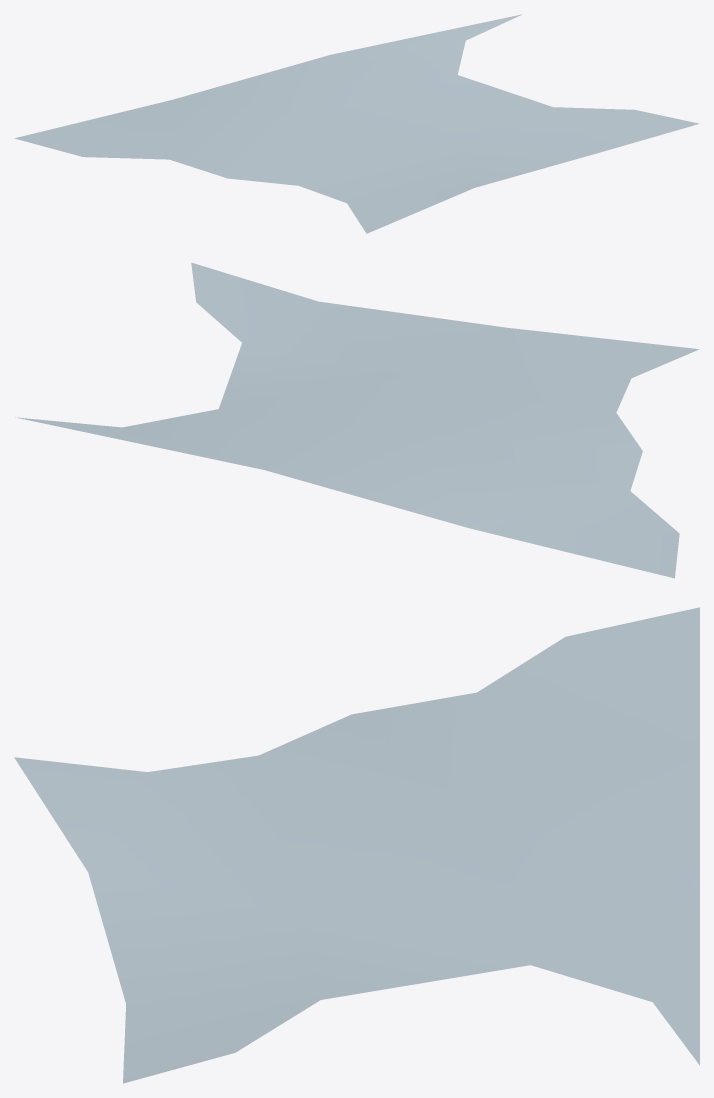
Rendered from nieve2.fbx.
3 renders of one model, top to bottom at view 1: azimuth 30°, elevation 25°; view 2: azimuth 150°, elevation 25°; view 3: azimuth 270°, elevation 25°, orthographic. The views are drawn at different scales.
Visible parts, largest first — view 1: Cylinder007; view 2: Cylinder007; view 3: Cylinder007.
Boxes of the visible parts, x1=… form: Cylinder007: x1=14, y1=14, x2=699, y2=233; Cylinder007: x1=15, y1=262, x2=699, y2=578; Cylinder007: x1=14, y1=607, x2=699, y2=1083.
Bounding box in the file's own units: 72.74 × 1.56 × 44.26.
